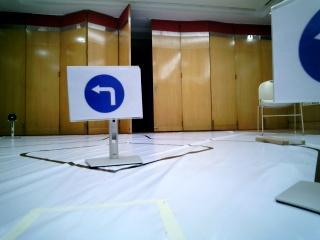left: (75, 73, 138, 117)
